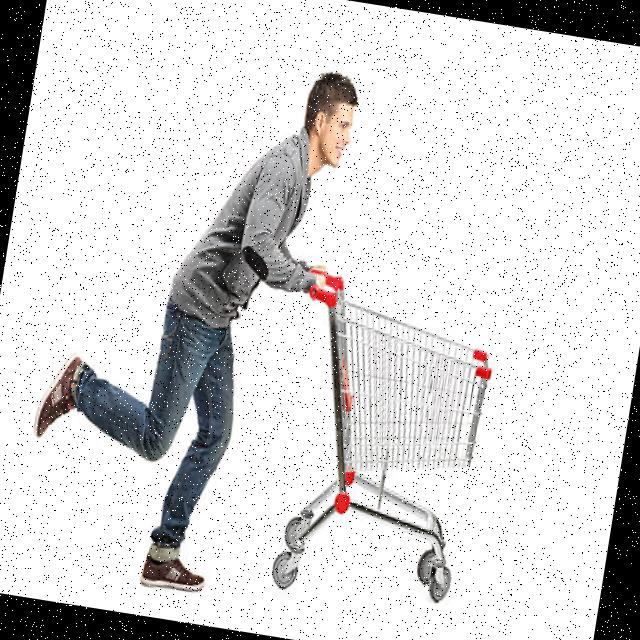Person: (11, 36, 363, 608)
